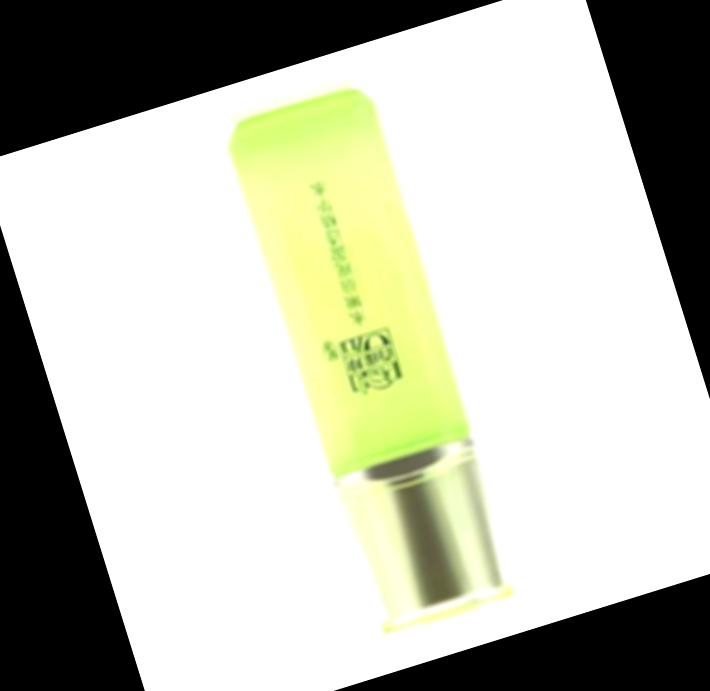cosmetic: (221, 95, 523, 642)
